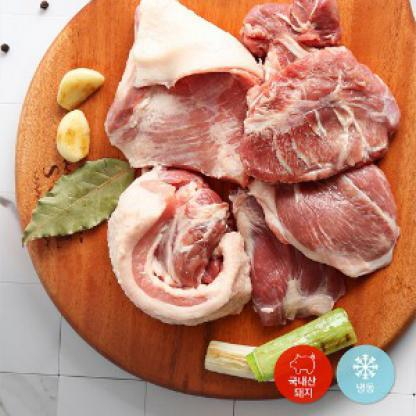pork: (248, 1, 400, 182), (104, 1, 248, 179), (104, 181, 251, 328), (254, 183, 392, 319)
